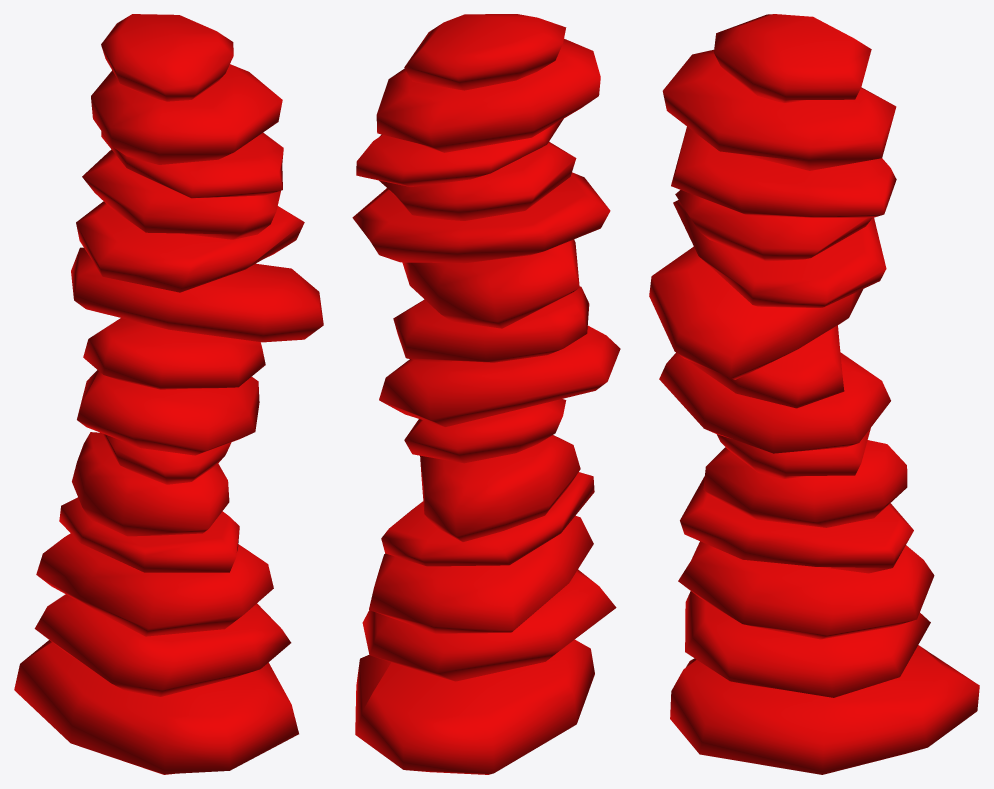
The model's file is RockStack02_mesh.fbx.
The picture shows the model from 3 angles, left to right: view 1: azimuth 30°, elevation 25°; view 2: azimuth 150°, elevation 25°; view 3: azimuth 270°, elevation 25°; orthographic projection. The views are drawn at different scales.
Visible parts, largest first — view 1: RockStack02_mesh; view 2: RockStack02_mesh; view 3: RockStack02_mesh.
Boxes of the visible parts, x1=… form: RockStack02_mesh: x1=14, y1=14, x2=323, y2=774; RockStack02_mesh: x1=352, y1=14, x2=620, y2=774; RockStack02_mesh: x1=649, y1=14, x2=979, y2=774.
Size of the model in its own units: 0.3365 by 1.01 by 0.4275.
